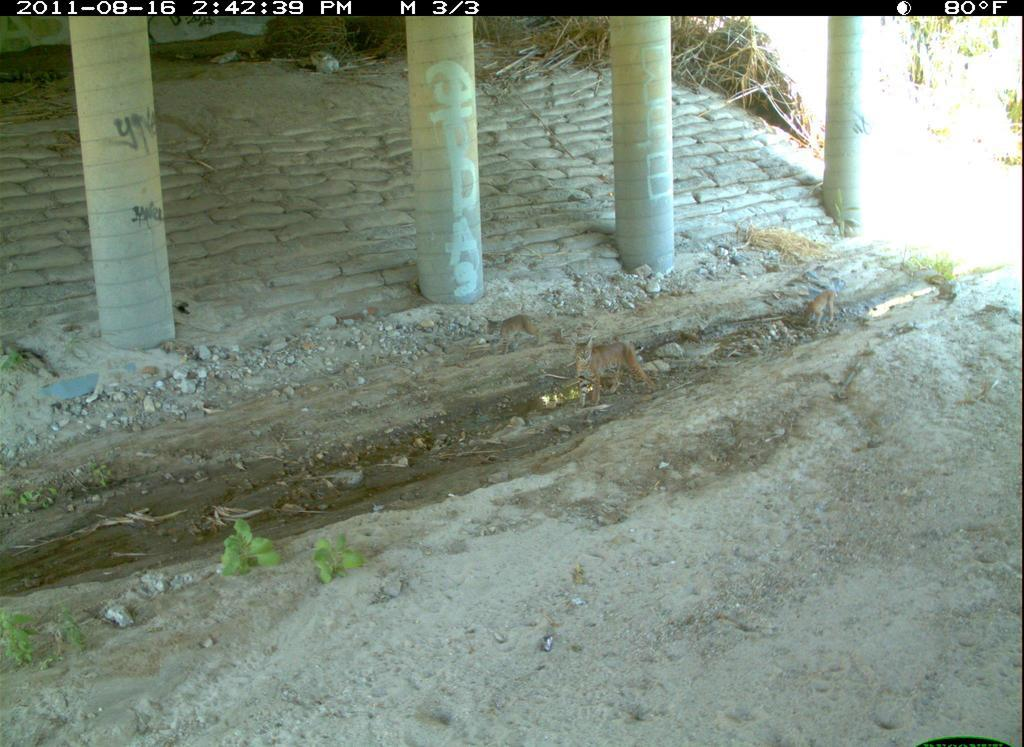bobcat: (963, 619, 1024, 720)
